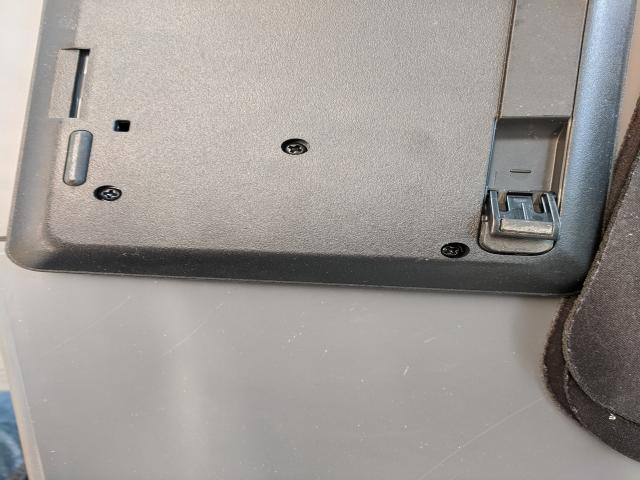CRS: (95, 185, 125, 202), (282, 140, 306, 156), (440, 244, 463, 258)
